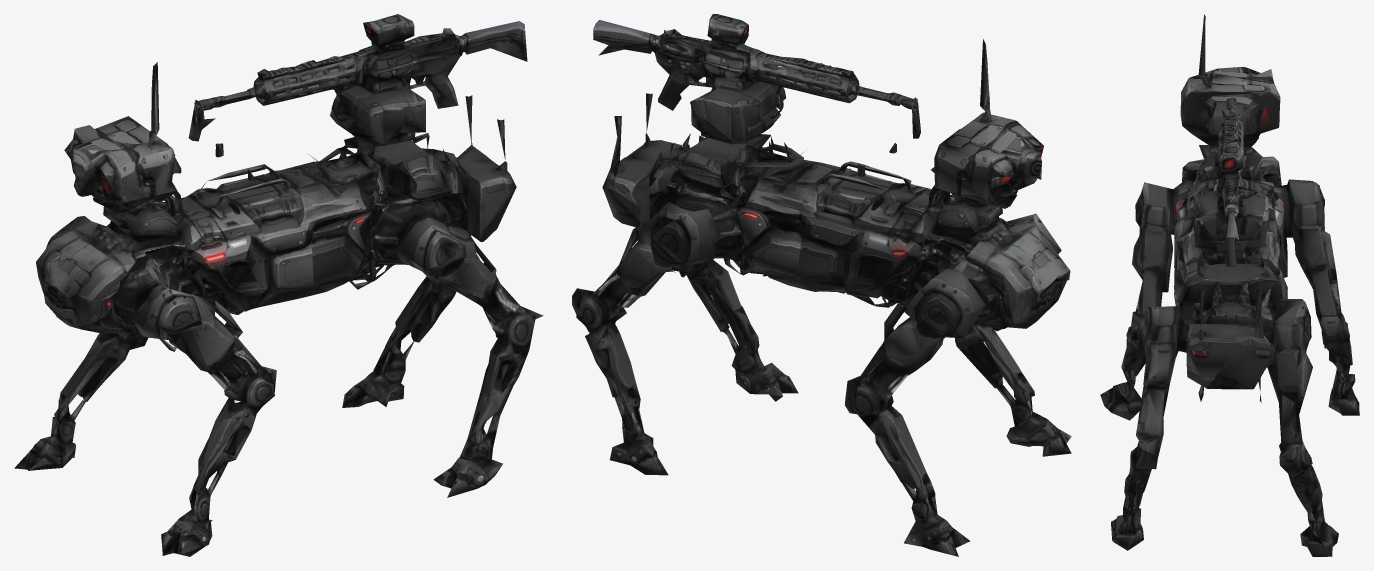
File: dog.glb
3 renders of one model, left to right at view 1: azimuth 30°, elevation 25°; view 2: azimuth 150°, elevation 25°; view 3: azimuth 270°, elevation 25°, orthographic. The views are drawn at different scales.
Parts seen in each view (by area): view 1: body_mesh, turret_mesh, head_mesh, leg_front_right_thigh_mesh, leg_back_right_thigh_mesh, leg_back_right_shin_mesh, leg_back_left_shin_mesh, leg_front_right_shin_mesh, leg_front_left_shin_mesh, leg_front_left_thigh_mesh, leg_back_left_thigh_mesh; view 2: body_mesh, turret_mesh, head_mesh, leg_front_left_thigh_mesh, leg_back_left_thigh_mesh, leg_back_right_shin_mesh, leg_front_left_shin_mesh, leg_front_right_shin_mesh, leg_back_left_shin_mesh, leg_front_right_thigh_mesh, leg_back_right_thigh_mesh; view 3: body_mesh, head_mesh, turret_mesh, leg_back_right_thigh_mesh, leg_back_left_thigh_mesh, leg_front_left_thigh_mesh, leg_back_left_shin_mesh, leg_back_right_shin_mesh, leg_front_right_shin_mesh, leg_front_left_shin_mesh, leg_front_right_thigh_mesh.
Part boxes in pixels (x1,y1,x2,y2): body_mesh: (36, 95, 516, 376); turret_mesh: (194, 14, 527, 180); head_mesh: (64, 62, 229, 264); leg_front_right_thigh_mesh: (199, 366, 276, 477); leg_back_right_thigh_mesh: (481, 279, 543, 399); leg_back_right_shin_mesh: (433, 377, 518, 497); leg_back_left_shin_mesh: (342, 311, 439, 407); leg_front_right_shin_mesh: (161, 450, 227, 556); leg_front_left_shin_mesh: (14, 358, 104, 470); leg_front_left_thigh_mesh: (66, 332, 148, 407); leg_back_left_thigh_mesh: (395, 254, 479, 325); body_mesh: (602, 93, 1070, 379); turret_mesh: (593, 14, 917, 176); head_mesh: (895, 39, 1043, 259); leg_front_left_thigh_mesh: (845, 355, 926, 486); leg_back_left_thigh_mesh: (572, 271, 643, 384); leg_back_right_shin_mesh: (702, 288, 798, 401); leg_front_left_shin_mesh: (887, 442, 970, 556); leg_front_right_shin_mesh: (989, 372, 1071, 456); leg_back_left_shin_mesh: (596, 363, 668, 475); leg_front_right_thigh_mesh: (955, 325, 1021, 386); leg_back_right_thigh_mesh: (679, 258, 742, 319); body_mesh: (1132, 156, 1341, 440); head_mesh: (1179, 14, 1280, 209); turret_mesh: (1193, 97, 1268, 266); leg_back_right_thigh_mesh: (1126, 386, 1165, 492); leg_back_left_thigh_mesh: (1278, 396, 1319, 497); leg_front_left_thigh_mesh: (1312, 277, 1351, 363); leg_back_left_shin_mesh: (1296, 484, 1338, 556); leg_back_right_shin_mesh: (1111, 479, 1143, 550); leg_front_right_shin_mesh: (1100, 348, 1145, 420); leg_front_left_shin_mesh: (1328, 350, 1359, 415); leg_front_right_thigh_mesh: (1124, 275, 1164, 375).
Size of the model in its own units: 1.3 by 1.2 by 0.6894.
Materials: 1 (1 with a texture image).
